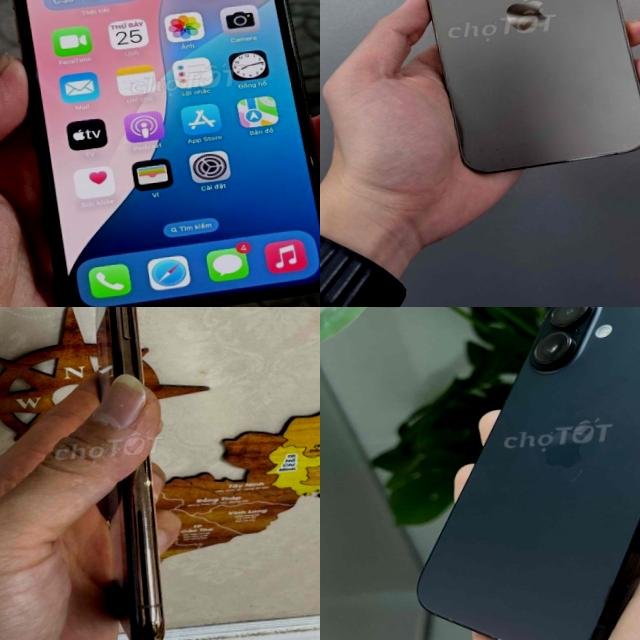scratch: (424, 602, 473, 640), (296, 147, 320, 177), (484, 628, 532, 640)
